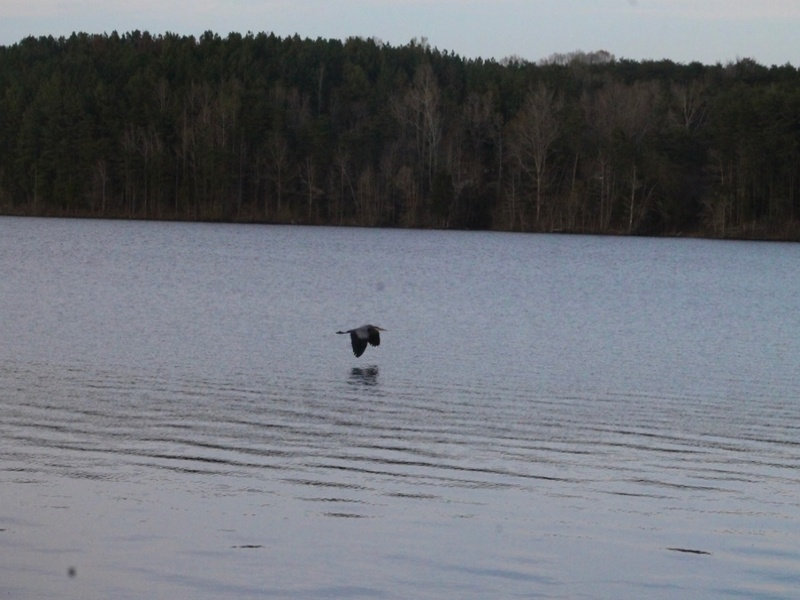heron: (336, 323, 387, 358)
